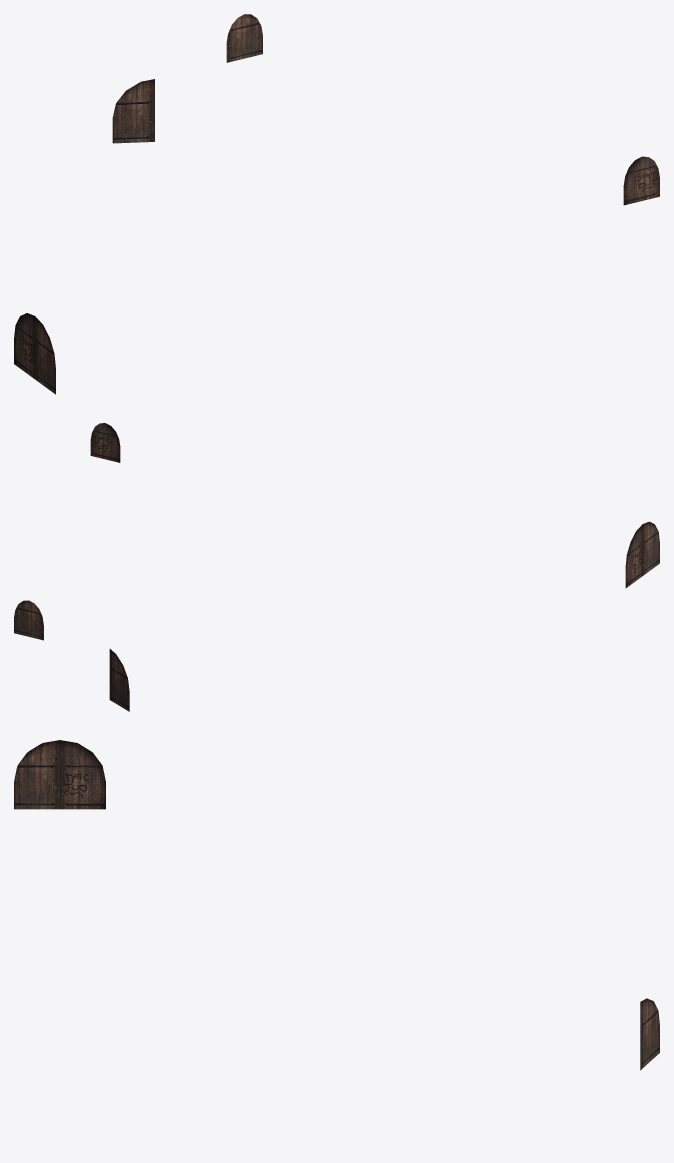
The picture shows the model from 3 angles, top to bottom: view 1: azimuth 30°, elevation 25°; view 2: azimuth 150°, elevation 25°; view 3: azimuth 270°, elevation 25°; orthographic projection. The views are drawn at different scales.
Visible parts, largest first — view 1: Object_15; view 2: Object_15; view 3: Object_15.
Boxes of the visible parts, box(x1,y1,x2,y2) form: Object_15: box(14, 14, 659, 394); Object_15: box(14, 423, 659, 711); Object_15: box(14, 740, 659, 1070).
Bounding box in the file's own units: 22.83 × 3.84 × 17.99.
Materials: 1 (1 with a texture image).
